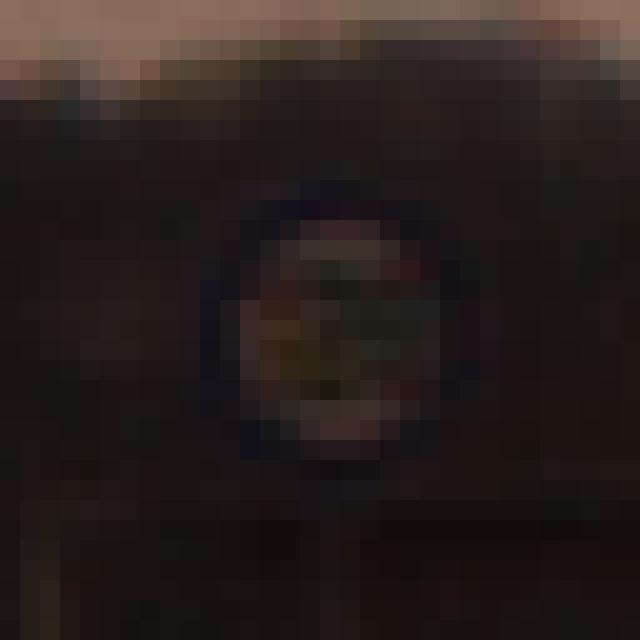SPEED LIMIT 120: (210, 201, 472, 472)
